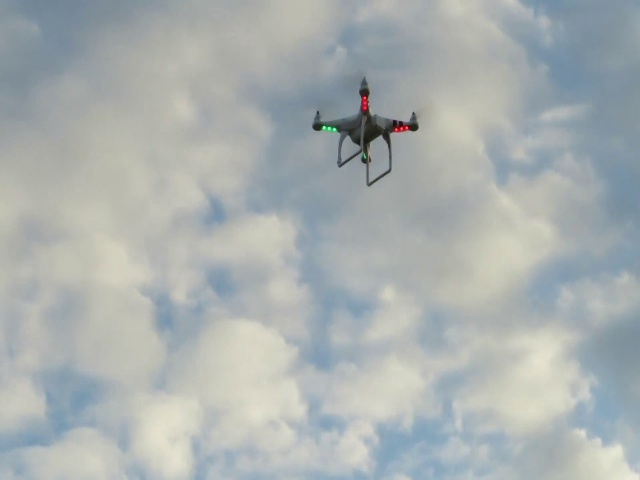drone: (300, 68, 433, 191)
